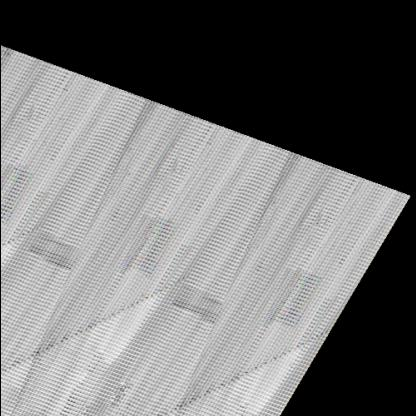Damage: (132, 245, 229, 329)
